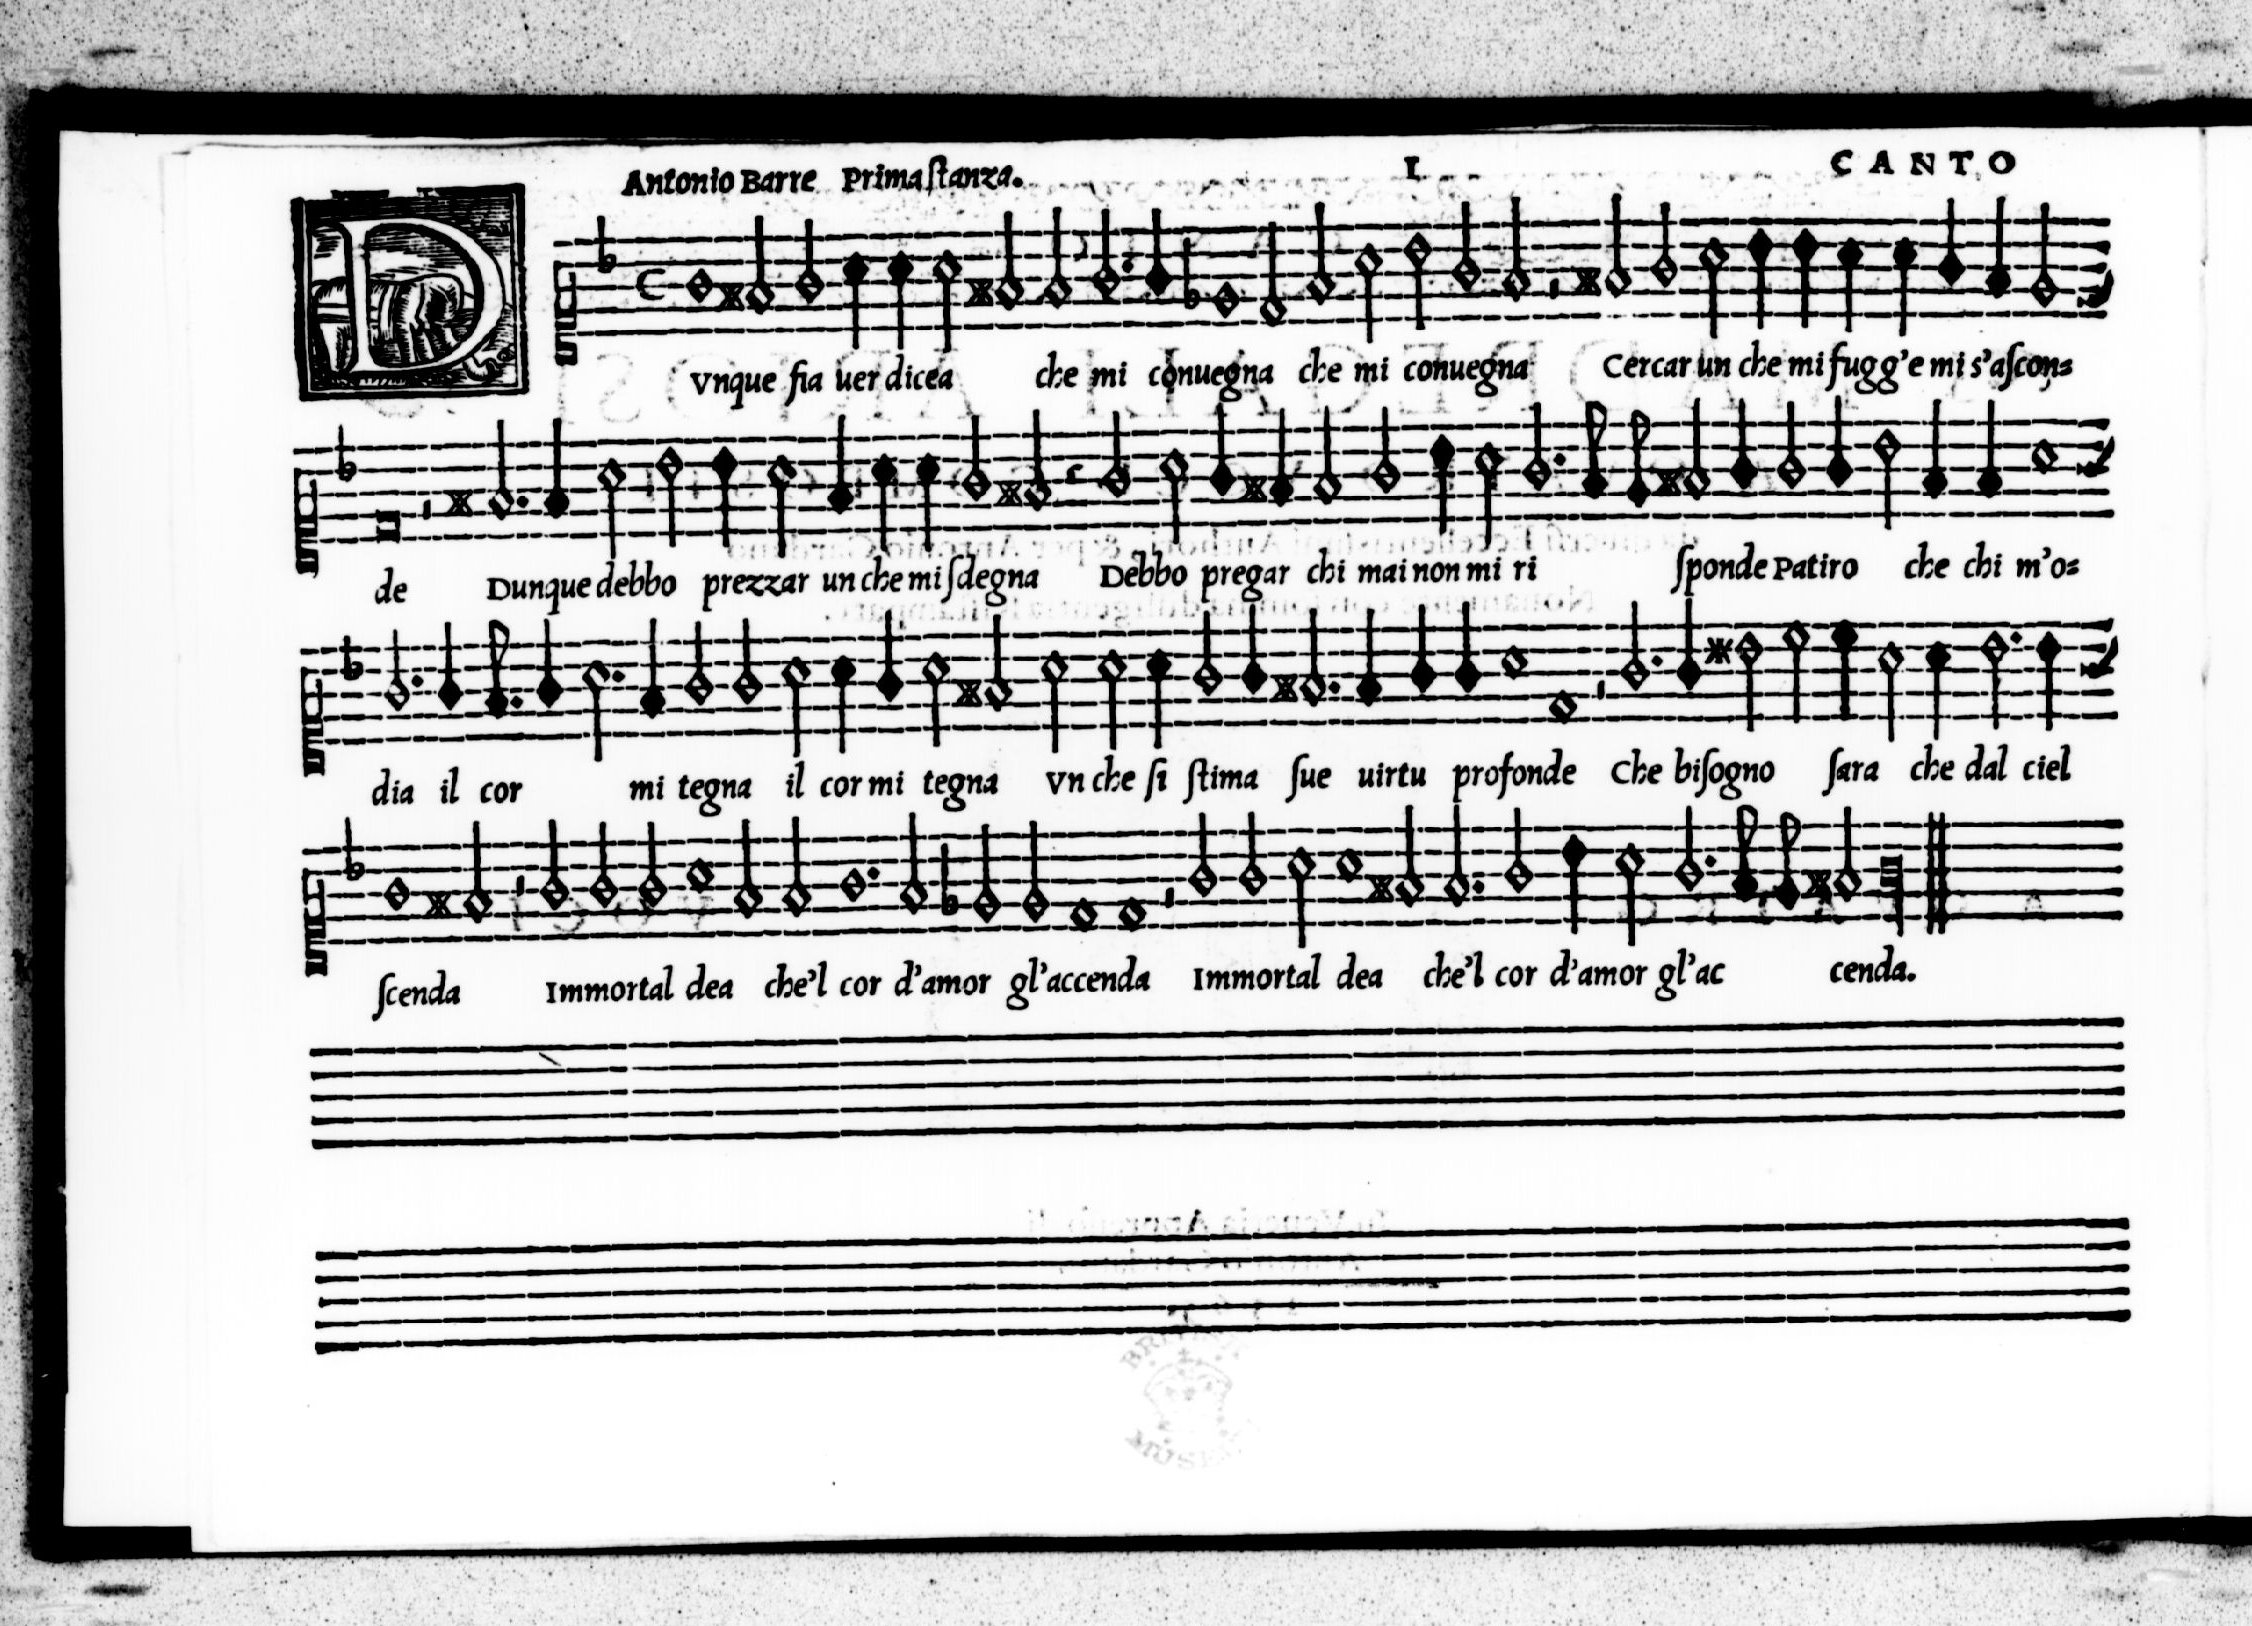Imin: (640, 236, 680, 325)
c clef_11: (540, 252, 587, 386)
custos_10: (2068, 250, 2121, 343)
flat_5: (582, 198, 628, 288)
flat_9: (1170, 227, 1208, 325)
minim rest: (1535, 210, 1567, 334)
minim_10: (1254, 215, 1290, 337)
minim_5: (1399, 219, 1437, 337)
minim_6: (1345, 226, 1387, 350), (1691, 226, 1729, 350), (925, 238, 962, 351)
minim_7: (1446, 192, 1486, 309), (789, 206, 825, 322), (1086, 203, 1121, 316), (1649, 192, 1682, 306)
minim_8: (990, 203, 1030, 329), (1493, 191, 1533, 316), (741, 206, 780, 325), (1039, 199, 1075, 323), (1301, 194, 1338, 316), (1600, 191, 1637, 309)
minim_9: (2023, 192, 2065, 318)
point: (1110, 245, 1142, 287)
semibreve_7: (673, 252, 720, 315)
semibreve_9: (1205, 269, 1250, 336)
semiminim_5: (1785, 212, 1825, 341), (1741, 212, 1780, 341)
semiminim_6: (1827, 219, 1871, 346), (1881, 217, 1922, 350), (832, 234, 871, 362), (879, 236, 916, 365)
semiminim_7: (1138, 194, 1177, 315), (1932, 184, 1970, 301)
semiminim_8: (1976, 184, 2018, 316)
sharp: (951, 261, 1007, 325), (1565, 245, 1616, 313), (708, 264, 755, 329)
